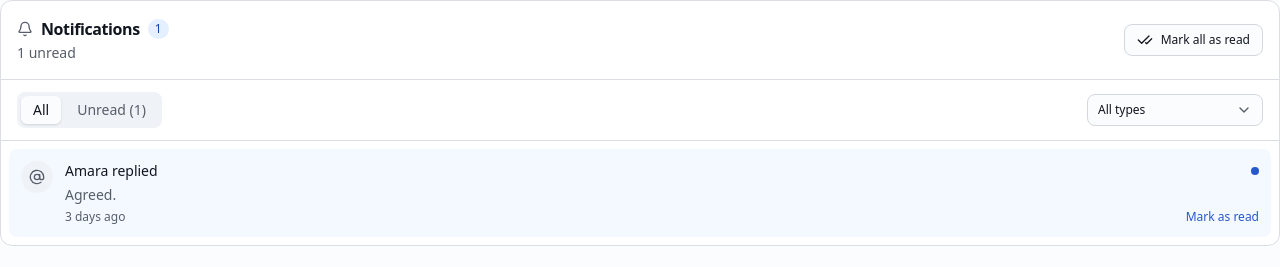
it: NotificationCenter › moves focus to the panel when the last unread item is marked read
The image size is (1280, 267).
What coordinates should you click on to do the following:
click the button with aria-label "Mark as read: Amara replied"
I would click on:
 (1222, 217)
Its box is [1186,209,1259,225].
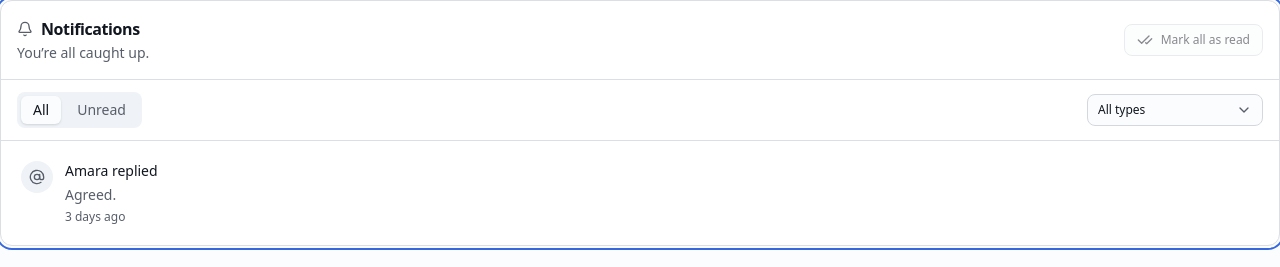
Expected: the message reads "You’re all caught up.", [17,43,149,62]
